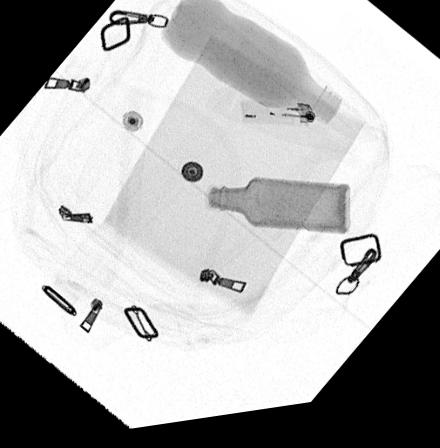Lighter: (241, 109, 316, 134)
